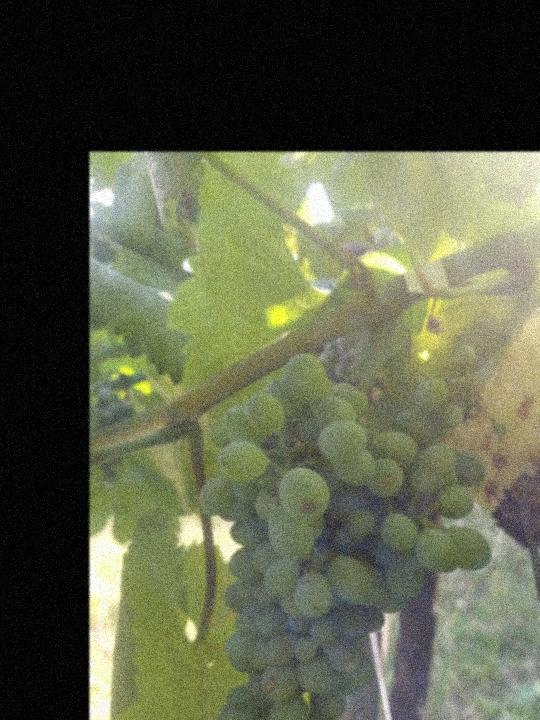grape: (193, 337, 499, 720)
